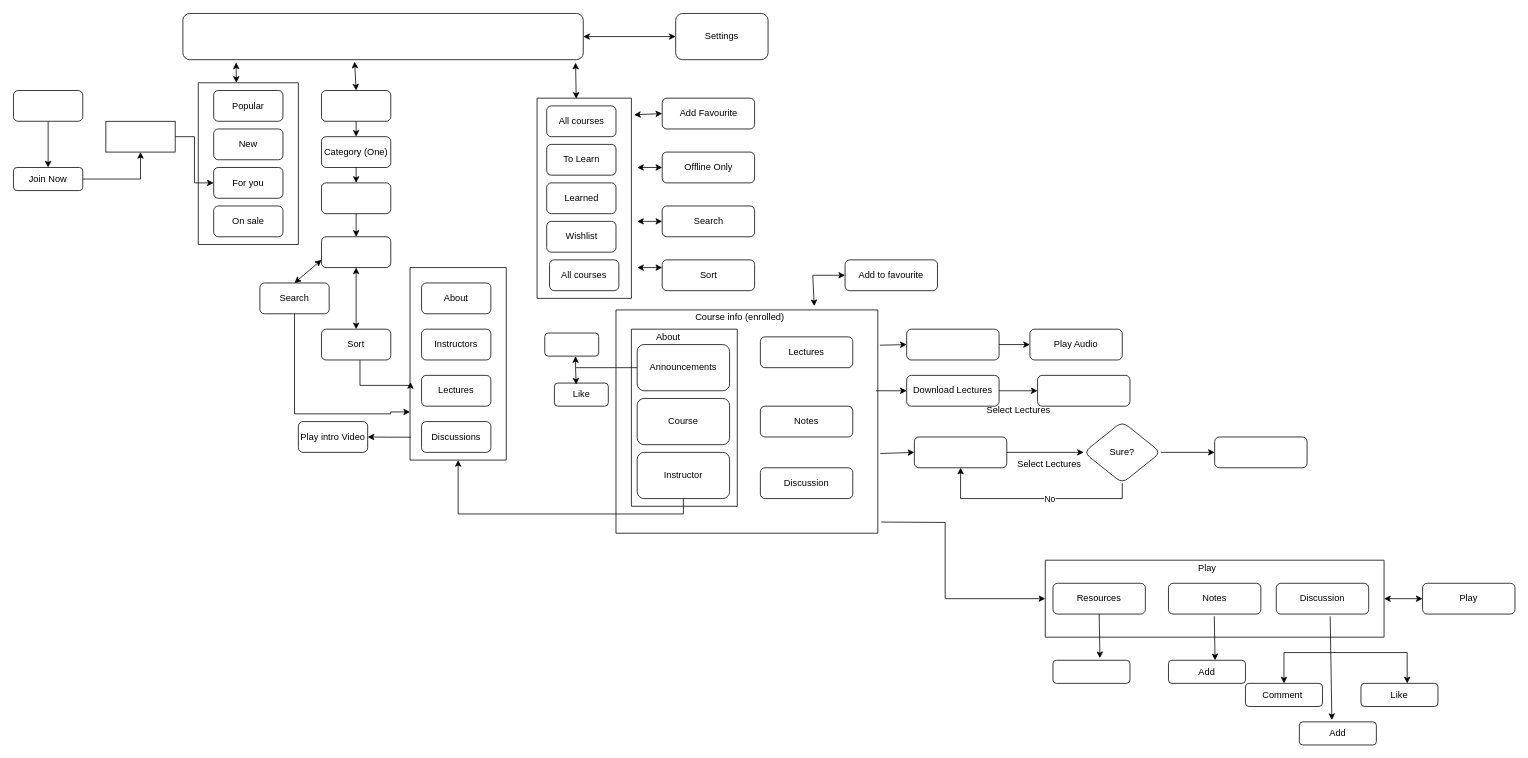
This 1528x758 diagram has some shape labels left out. Here are the shapes that lost their labels. From the top down, the centre of each, then its label:
the point at 382,36: Navigation SideBar
the point at 48,105: Welcome
the point at 356,105: Categories (All)
the point at 140,136: Login
the point at 356,198: Sub categories
the point at 356,252: Courses
the point at 457,363: Course info (unenrolled)
the point at 571,344: Comments
the point at 952,344: Audio Only
the point at 1083,390: Download
the point at 960,452: Delete Downloaded
the point at 1260,452: Delete
the point at 1091,671: Open
